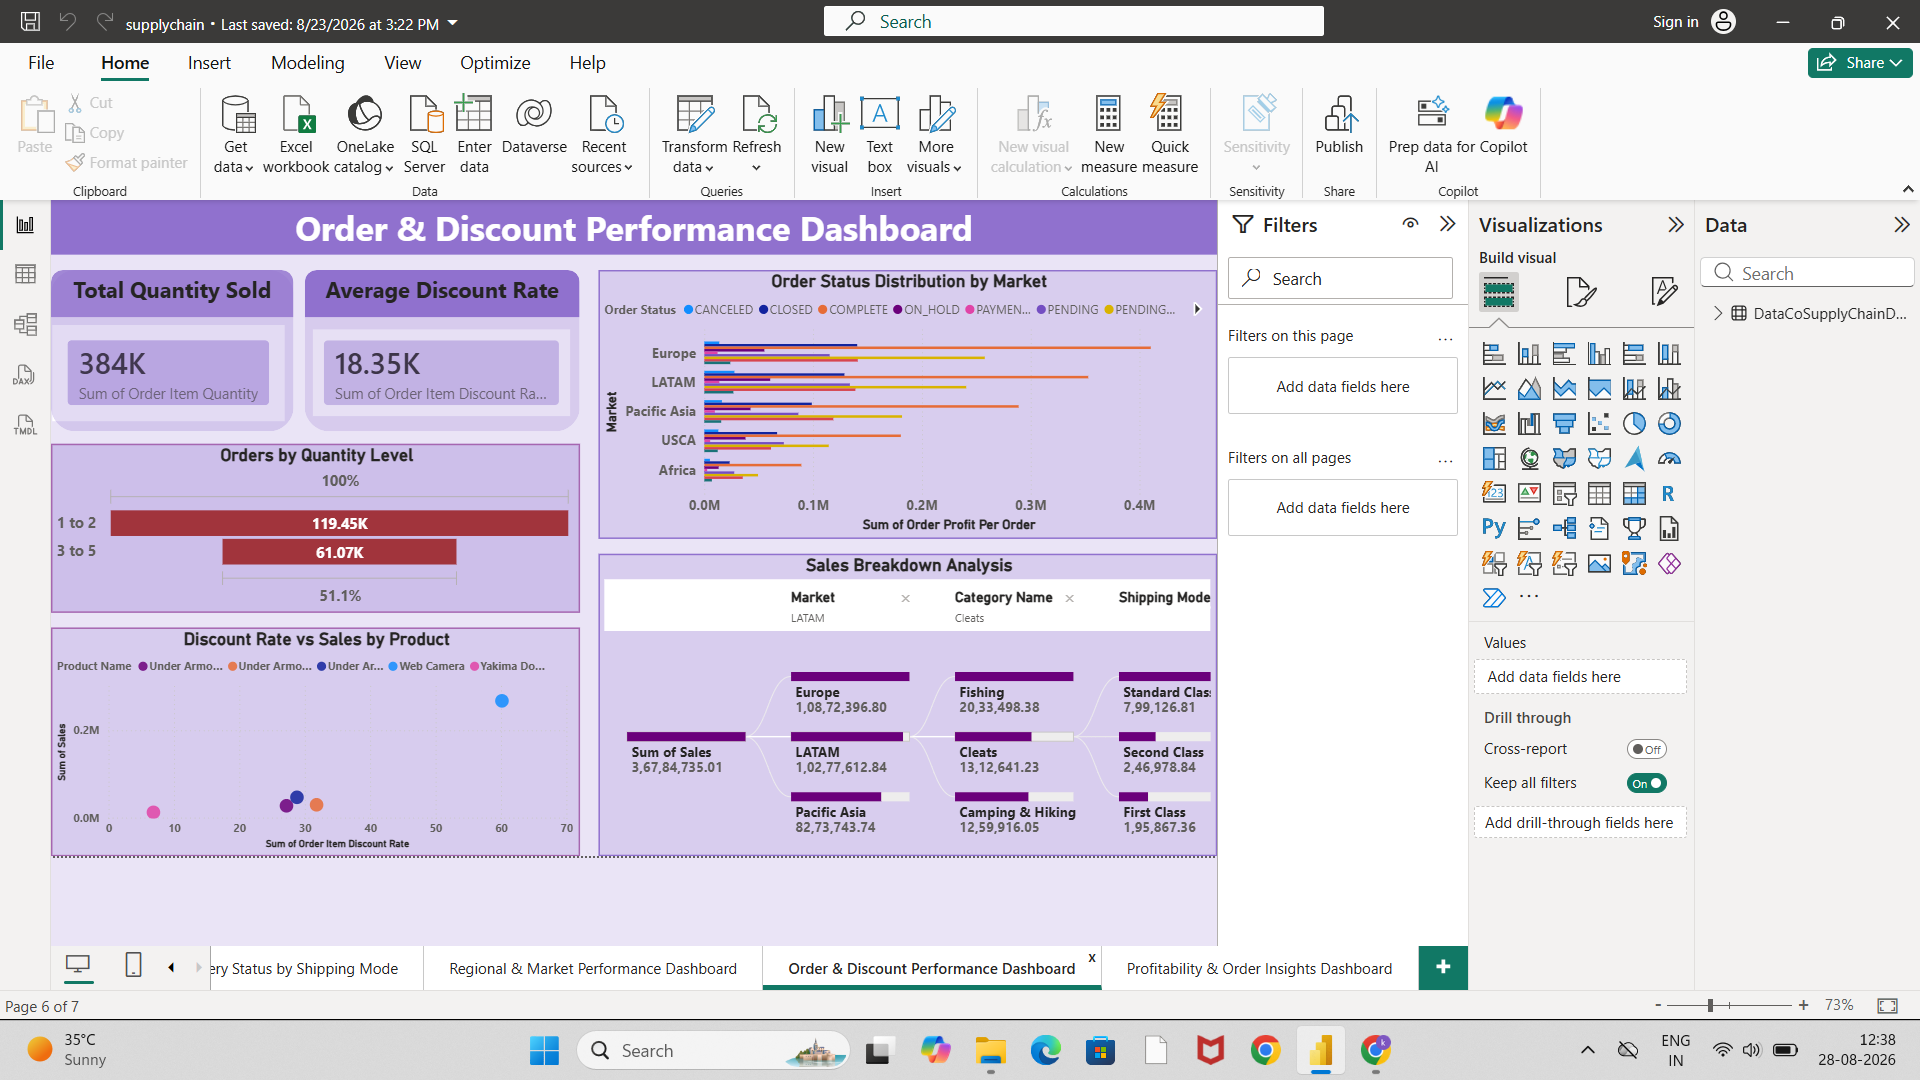

Layout of this report page (visuals, bound fields, positions):
{"tool":"powerbi","page":{"name":"Order & Discount Performance Dashboard","canvas":[1280,720],"ordinal":5},"visuals":[{"type":"textbox","box":[0,0,1280,60],"z":0},{"type":"cardVisual","fields":{"Data":["Sum(DataCoSupplyChainDataset.Order Item Quantity)"]},"box":[1.4,137.2,255.2,105.7],"z":1000},{"type":"cardVisual","fields":{"Data":["Sum(DataCoSupplyChainDataset.Order Item Discount Rate)"]},"box":[282.7,137.2,292.3,105.7],"z":2000},{"type":"clusteredBarChart","title":"Order Status Distribution by Market","fields":{"Category":["DataCoSupplyChainDataset.Market"],"Series":["DataCoSupplyChainDataset.Order Status"],"Y":["Sum(DataCoSupplyChainDataset.Order Profit Per Order)"]},"box":[601,76.8,679.2,295],"z":3000},{"type":"decompositionTreeVisual","title":"Sales Breakdown Analysis","fields":{"Analyze":["Sum(DataCoSupplyChainDataset.Sales)"],"ExplainBy":["DataCoSupplyChainDataset.Market","DataCoSupplyChainDataset.Category Name","DataCoSupplyChainDataset.Shipping Mode"]},"box":[601,388.3,679.2,332.1],"z":4000},{"type":"shape","box":[0,76.8,266.2,177],"z":5000},{"type":"shape","box":[0,76.8,266.2,52.1],"z":6000},{"type":"textbox","box":[0,76.8,266.2,52.1],"z":7000},{"type":"shape","box":[278.6,85.1,301.9,168.8],"z":8000},{"type":"shape","box":[278.6,76.8,301.9,52.1],"z":9000},{"type":"textbox","box":[278.6,76.8,301.9,52.1],"z":10000},{"type":"funnel","title":"Orders by Quantity Level","fields":{"Category":["DataCoSupplyChainDataset.Quantity Range"],"Y":["CountNonNull(DataCoSupplyChainDataset.Order Id)"]},"box":[0,267.6,580.4,185.2],"z":11000},{"type":"scatterChart","title":"Discount Rate vs Sales by Product","fields":{"Series":["DataCoSupplyChainDataset.Product Name"],"X":["Sum(DataCoSupplyChainDataset.Order Item Discount Rate)"],"Y":["Sum(DataCoSupplyChainDataset.Sales)"]},"box":[0,469.3,580.4,251.1],"z":12000}]}

Visuals, with their boxes on the page's 1280x720 design canvas (x1, y1, x2, y2). These are canvas units, not pixel positions in the 1920x1080 screenshot, which may show the page scaled, cropped or inside an application window:
textbox: bbox=(0, 0, 1280, 60)
cardVisual - Sum(DataCoSupplyChainDataset.Order Item Quantity): bbox=(1, 137, 257, 243)
cardVisual - Sum(DataCoSupplyChainDataset.Order Item Discount Rate): bbox=(283, 137, 575, 243)
"Order Status Distribution by Market" clusteredBarChart: bbox=(601, 77, 1280, 372)
"Sales Breakdown Analysis" decompositionTreeVisual: bbox=(601, 388, 1280, 720)
shape: bbox=(0, 77, 266, 254)
shape: bbox=(0, 77, 266, 129)
textbox: bbox=(0, 77, 266, 129)
shape: bbox=(279, 85, 580, 254)
shape: bbox=(279, 77, 580, 129)
textbox: bbox=(279, 77, 580, 129)
"Orders by Quantity Level" funnel: bbox=(0, 268, 580, 453)
"Discount Rate vs Sales by Product" scatterChart: bbox=(0, 469, 580, 720)
